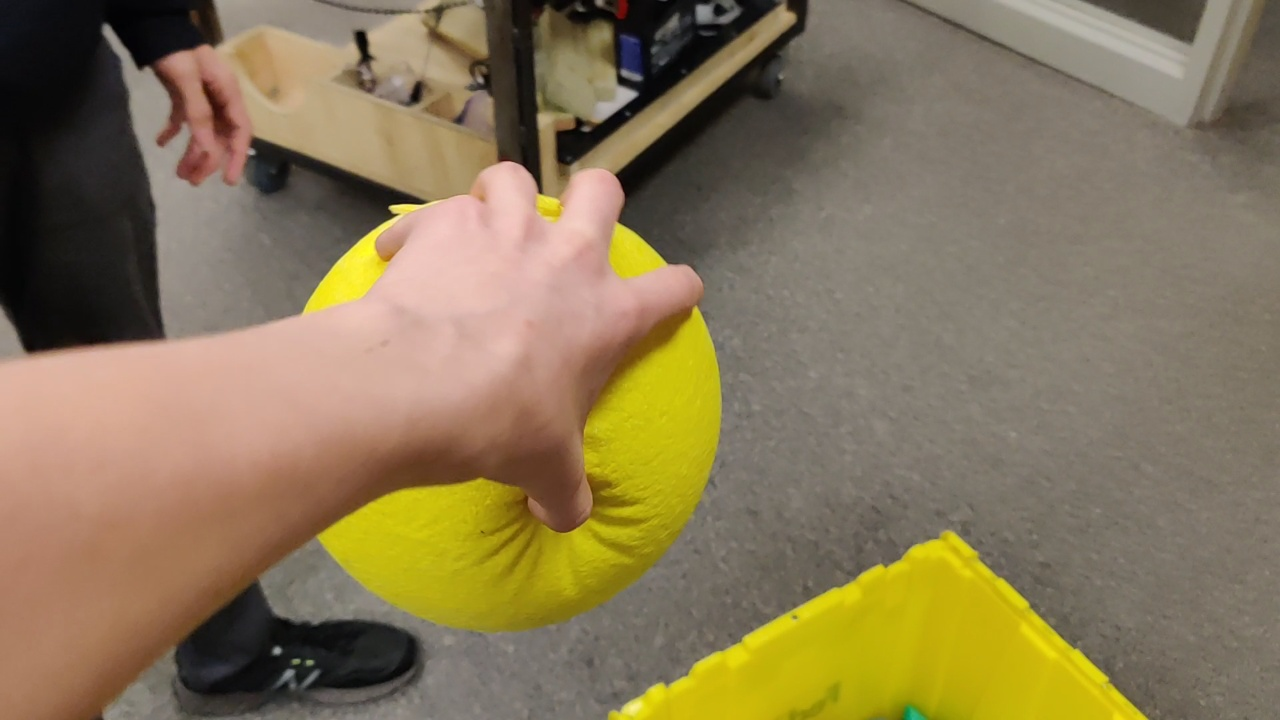Ball: (287, 293, 727, 621)
